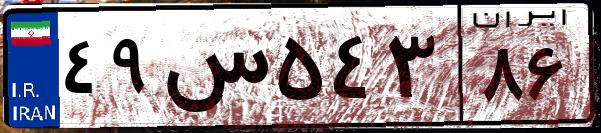3: (385, 28, 445, 110)
4: (330, 28, 385, 110), (57, 26, 110, 100)
5: (270, 28, 330, 110)
6: (525, 38, 570, 115)
8: (475, 38, 525, 113)
9: (110, 28, 158, 98)
س: (158, 20, 270, 120)
